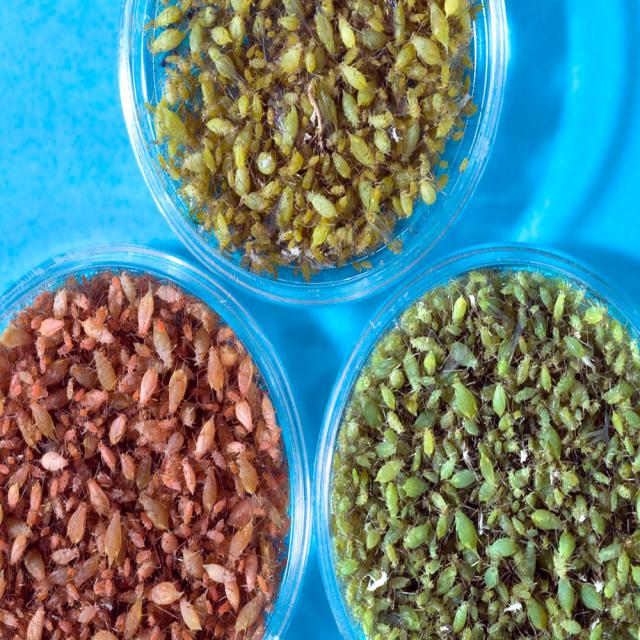Aphid-Grouped-: (390, 344, 579, 586), (194, 6, 393, 210), (24, 352, 205, 556)
